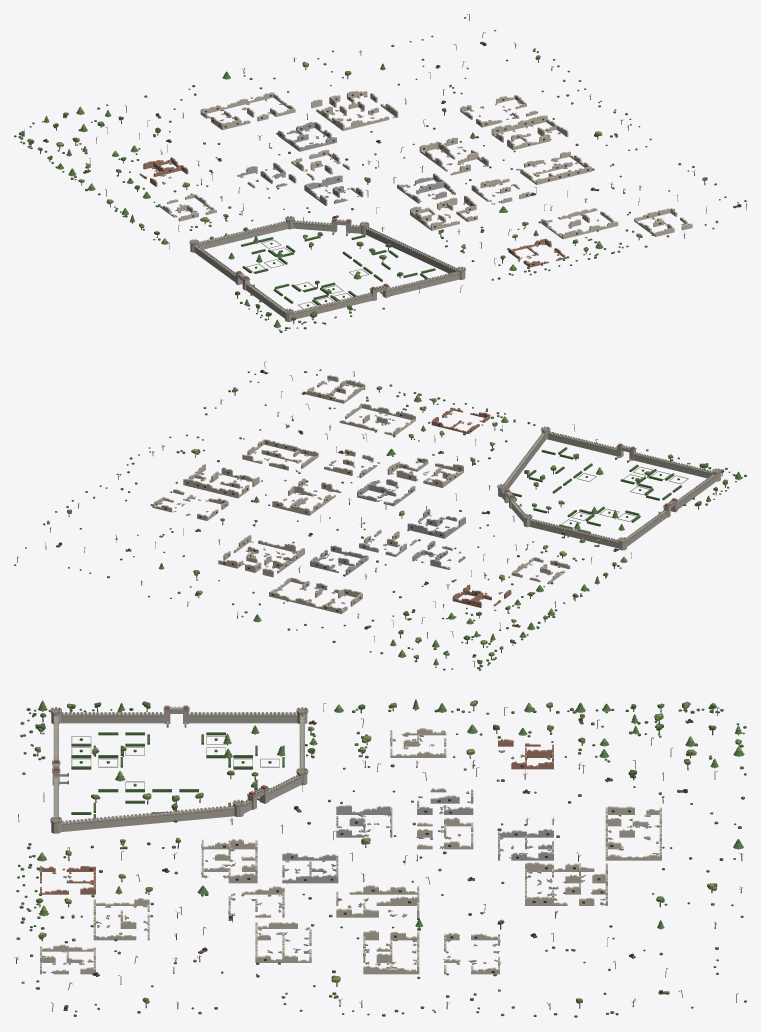
The model's file is map_level3.glb.
The picture shows the model from 3 angles, top to bottom: view 1: azimuth 30°, elevation 25°; view 2: azimuth 150°, elevation 25°; view 3: azimuth 270°, elevation 25°; orthographic projection. The views are drawn at different scales.
Parts seen in each view (by area): view 1: ruins, fortress, trees, garden, roadside; view 2: ruins, trees, fortress, garden, roadside; view 3: ruins, trees, fortress, garden, roadside.
Part boxes in pixels (x1,y1,x2,y2): ruins: (139, 90, 692, 267); fortress: (189, 216, 465, 321); trees: (14, 17, 746, 332); garden: (241, 234, 435, 309); roadside: (24, 14, 746, 293); ruins: (152, 375, 570, 613); trees: (14, 369, 746, 670); fortress: (497, 426, 721, 550); garden: (511, 447, 688, 533); roadside: (17, 361, 631, 667); ruins: (39, 728, 661, 974); trees: (14, 699, 746, 1017); fortress: (50, 705, 308, 833); garden: (71, 732, 284, 818); roadside: (18, 703, 738, 1011).
Bounding box in the file's own units: 2034 × 49.63 × 2040.
